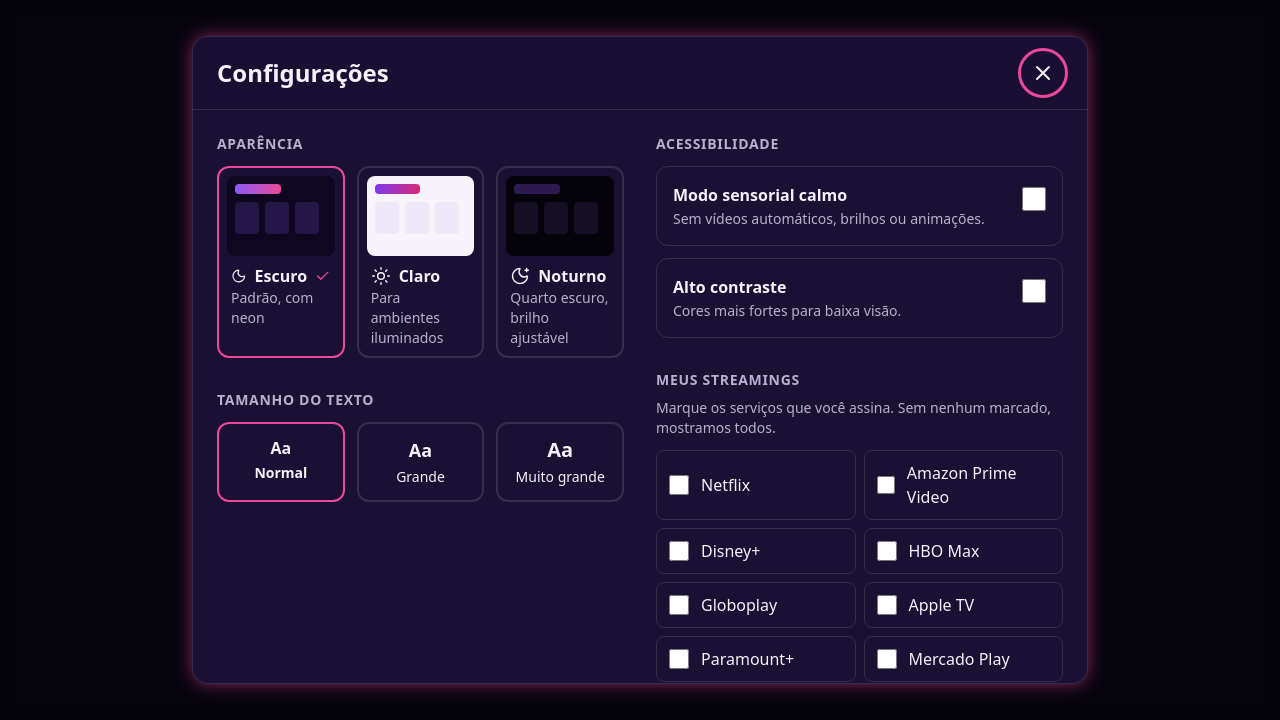
Test: SettingsPanel › troca o modo de cor e mostra o brilho só no Noturno
Click the radio button labelled "Noturno".
click(560, 262)  # box [496, 166, 624, 358]
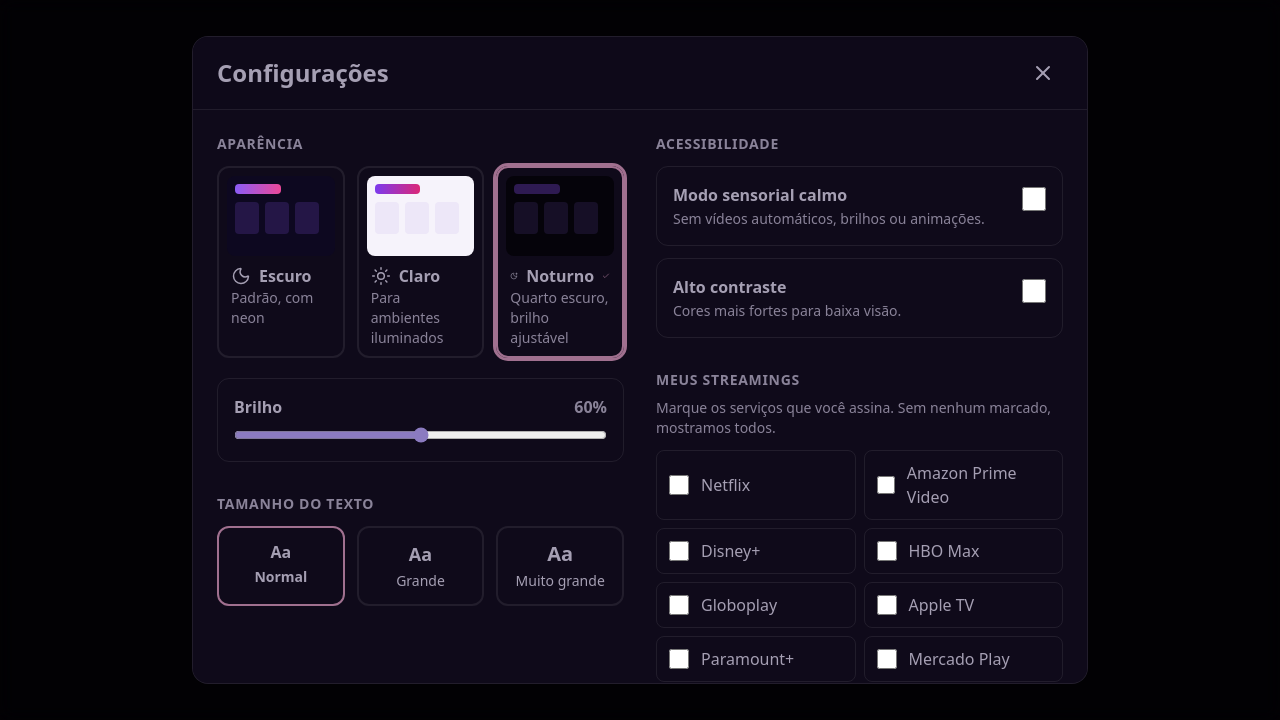
Now the slider labelled "Brilho 60%" holds "60", box [234, 431, 607, 439]
